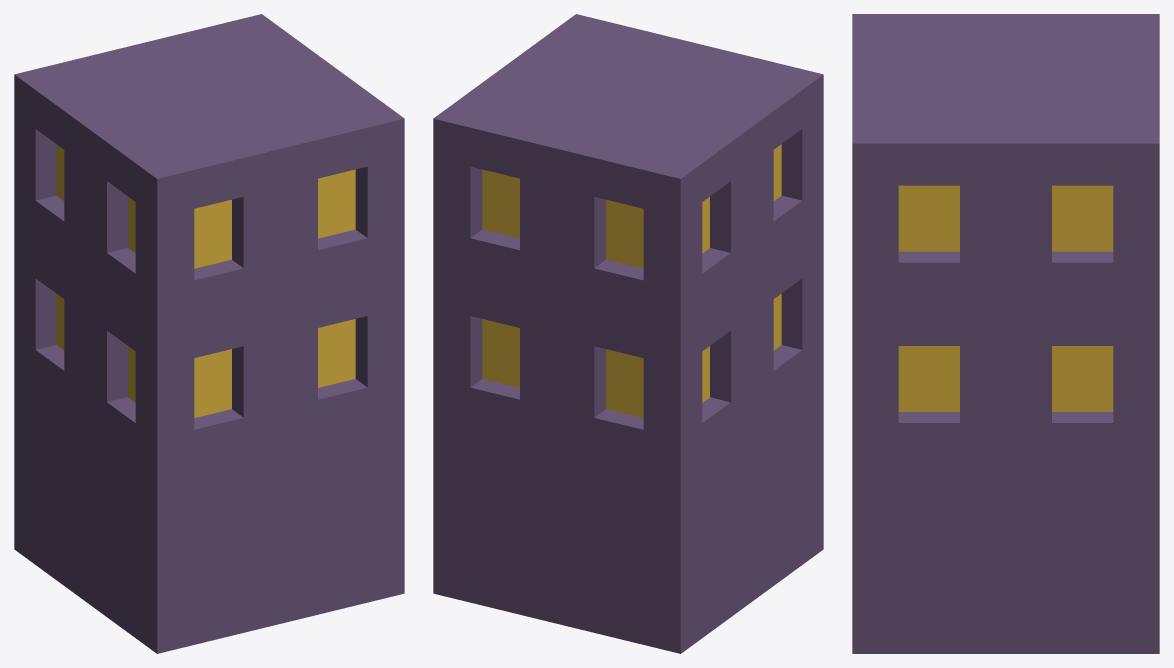
File: building.fbx
3 views of the same model, side by side, from view 1: azimuth 30°, elevation 25°; view 2: azimuth 150°, elevation 25°; view 3: azimuth 270°, elevation 25° (orthographic). The views are drawn at different scales.
Parts seen in each view (by area): view 1: Cube; view 2: Cube; view 3: Cube.
Part boxes in pixels (<box>): Cube: <box>14,14,404,653</box>; Cube: <box>433,14,823,653</box>; Cube: <box>852,14,1159,653</box>.
Size of the model in its own units: 600 by 1100 by 600.
